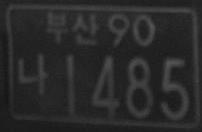0: (132, 13, 155, 47)
1: (56, 54, 86, 118)
4: (90, 55, 121, 119)
5: (159, 58, 189, 122)
8: (126, 57, 155, 120)
9: (107, 12, 131, 48)
나: (17, 52, 49, 95)
부산_O: (46, 10, 99, 47)
